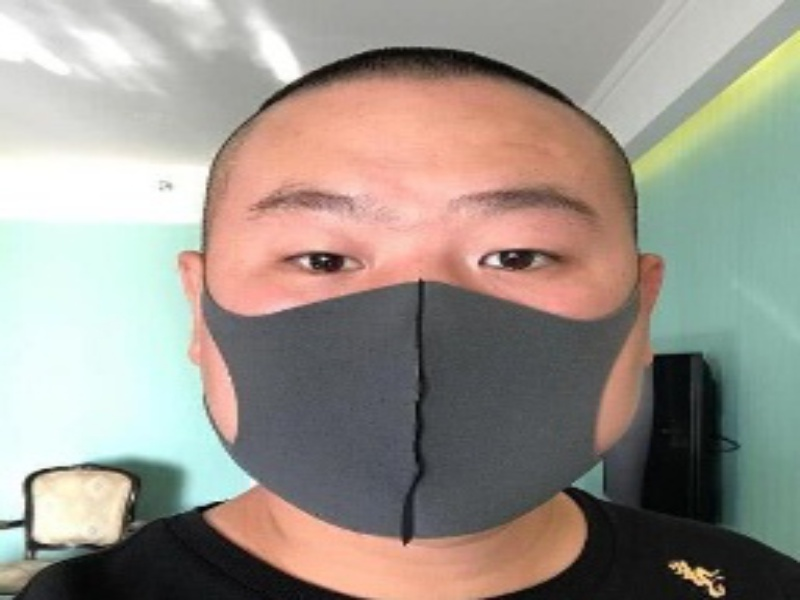ManaoArotava: (152, 37, 679, 566)
